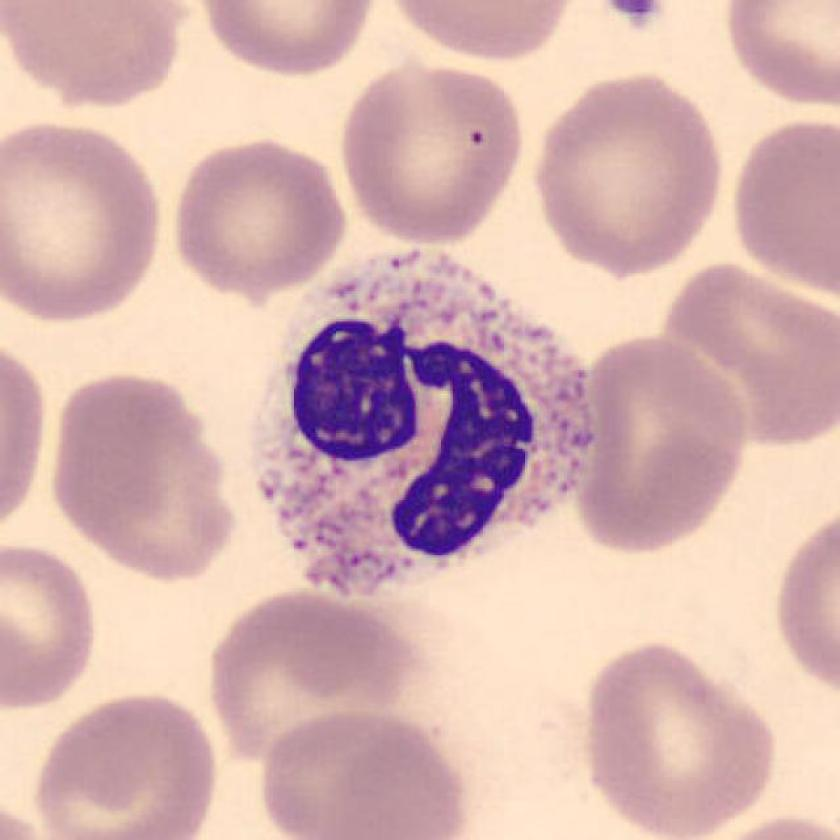neutrophil: (254, 249, 598, 601)
